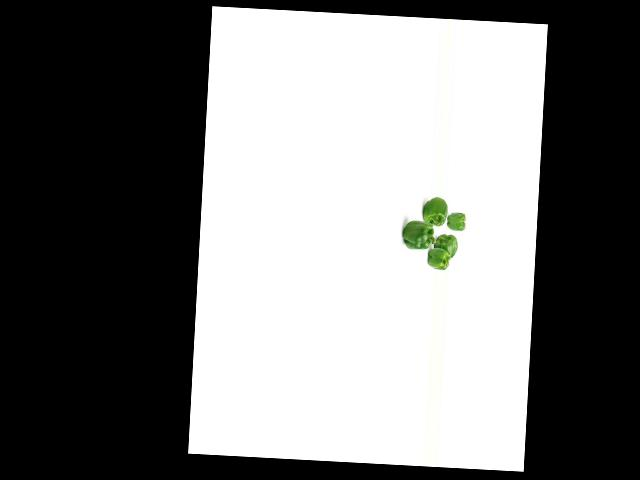bell_pepper: (424, 245, 449, 270)
